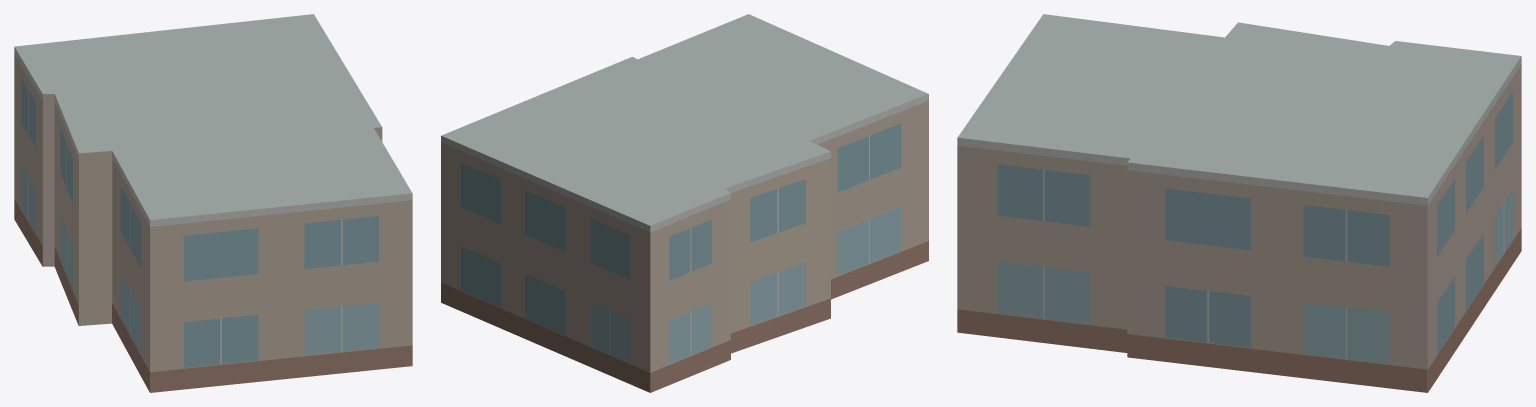
The model's file is survey-upis-32876967.glb.
3 renders of one model, left to right at view 1: azimuth 30°, elevation 25°; view 2: azimuth 150°, elevation 25°; view 3: azimuth 270°, elevation 25°, orthographic. The views are drawn at different scales.
Visible parts, largest first — view 1: survey-upis-32876967.tmp; view 2: survey-upis-32876967.tmp; view 3: survey-upis-32876967.tmp.
Boxes of the visible parts, x1,y1,x2,y2 form: survey-upis-32876967.tmp: (14,14,412,392); survey-upis-32876967.tmp: (441,14,928,392); survey-upis-32876967.tmp: (957,14,1521,392).
Size of the model in its own units: 12.36 by 6.1 by 16.02.
